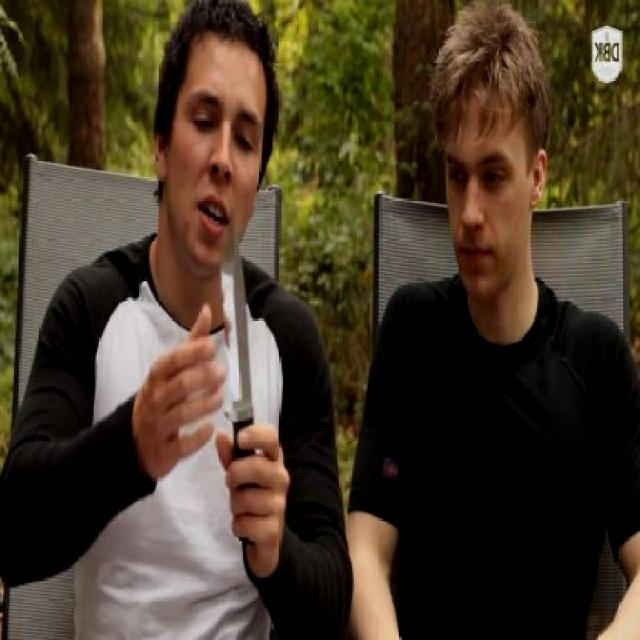knife: (211, 188, 289, 546)
